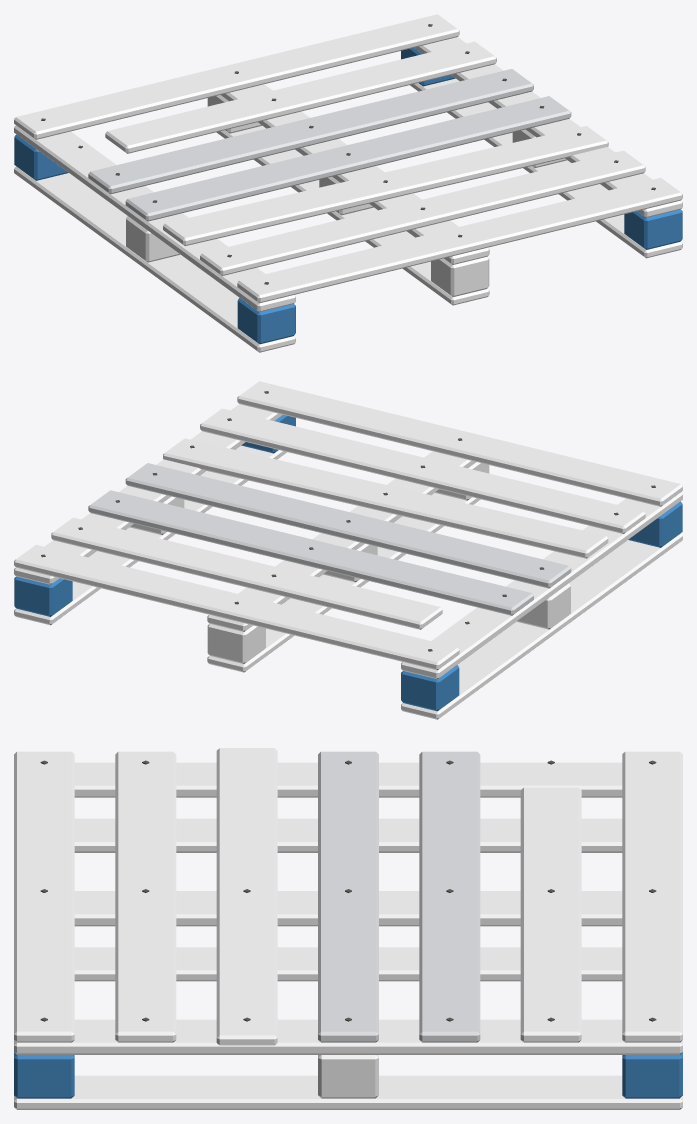
Rendered from pallet.glb.
3 views of the same model, one above another, from view 1: azimuth 30°, elevation 25°; view 2: azimuth 150°, elevation 25°; view 3: azimuth 270°, elevation 25° (orthographic). The views are drawn at different scales.
Parts seen in each view (by area): view 1: pallet_body; view 2: pallet_body; view 3: pallet_body.
Part boxes in pixels (x1,y1,x2,y2): pallet_body: [14, 14, 682, 352]; pallet_body: [14, 381, 682, 719]; pallet_body: [14, 748, 682, 1109].
Size of what is drawn, in the model's own units: 1.1 by 0.1485 by 1.1.
